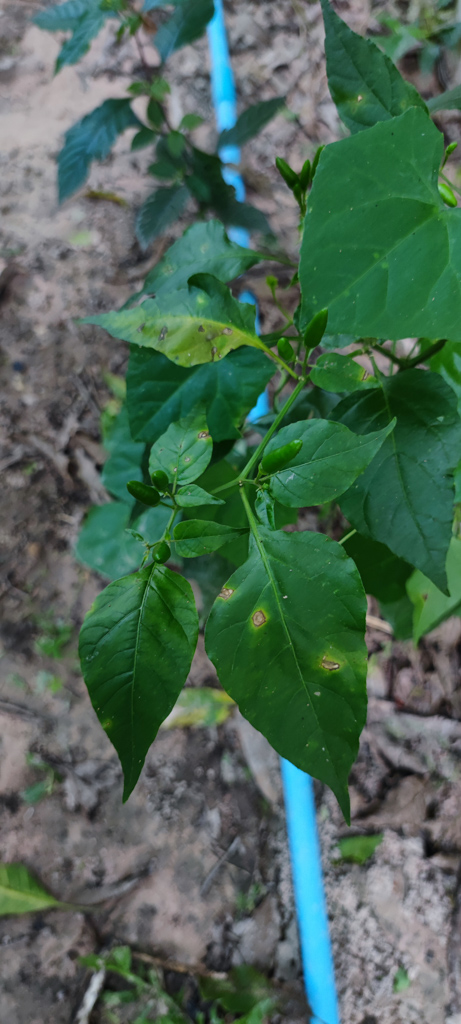frog-eye leafspot: (315, 646, 346, 680), (248, 607, 272, 634), (215, 581, 239, 604), (152, 322, 171, 343), (218, 319, 234, 340), (195, 426, 211, 443), (191, 322, 209, 336), (182, 454, 195, 465), (169, 462, 177, 474)
